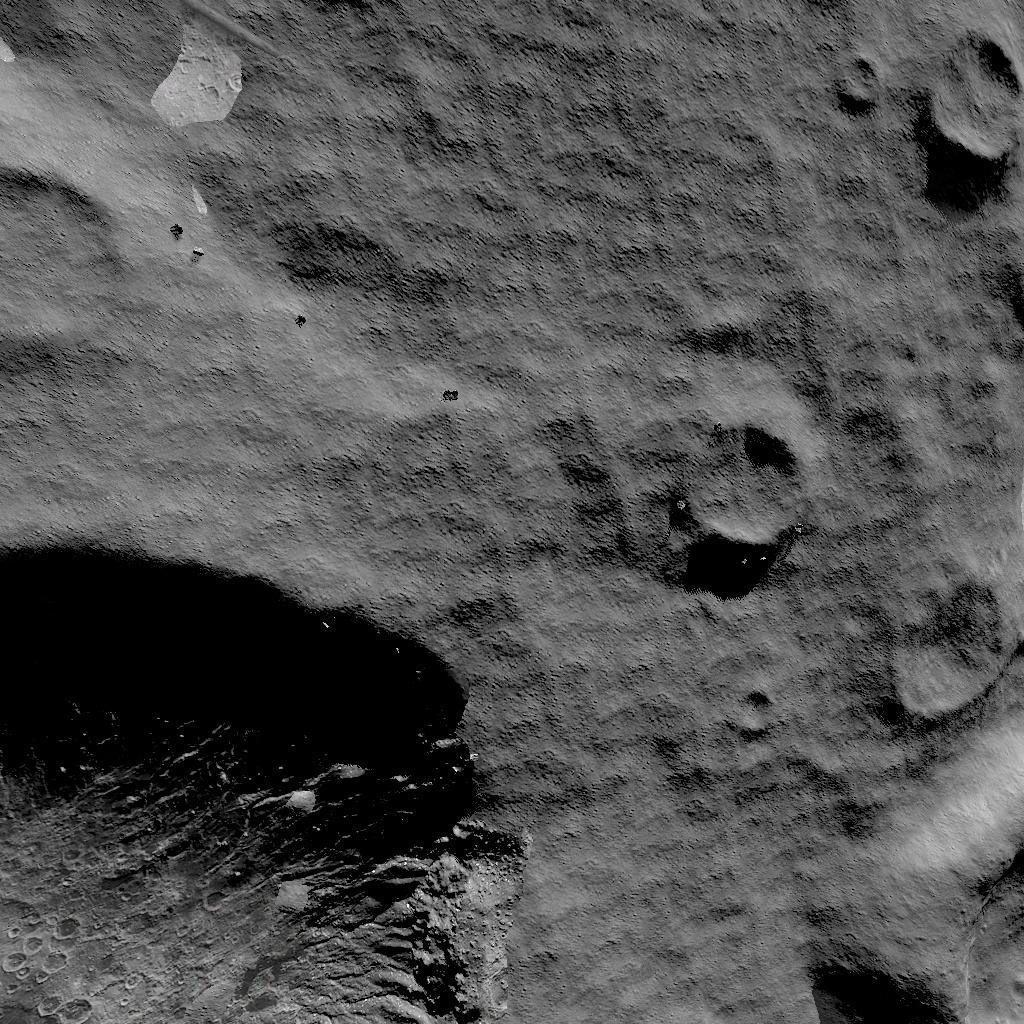Boulders: (134, 0, 245, 98)
Crater: (0, 510, 527, 1024), (794, 723, 1024, 1024), (0, 118, 135, 386), (666, 396, 821, 562), (866, 553, 1024, 710), (909, 0, 1024, 178), (716, 660, 779, 728), (834, 20, 887, 98)
Plan surface: (266, 0, 811, 276)
